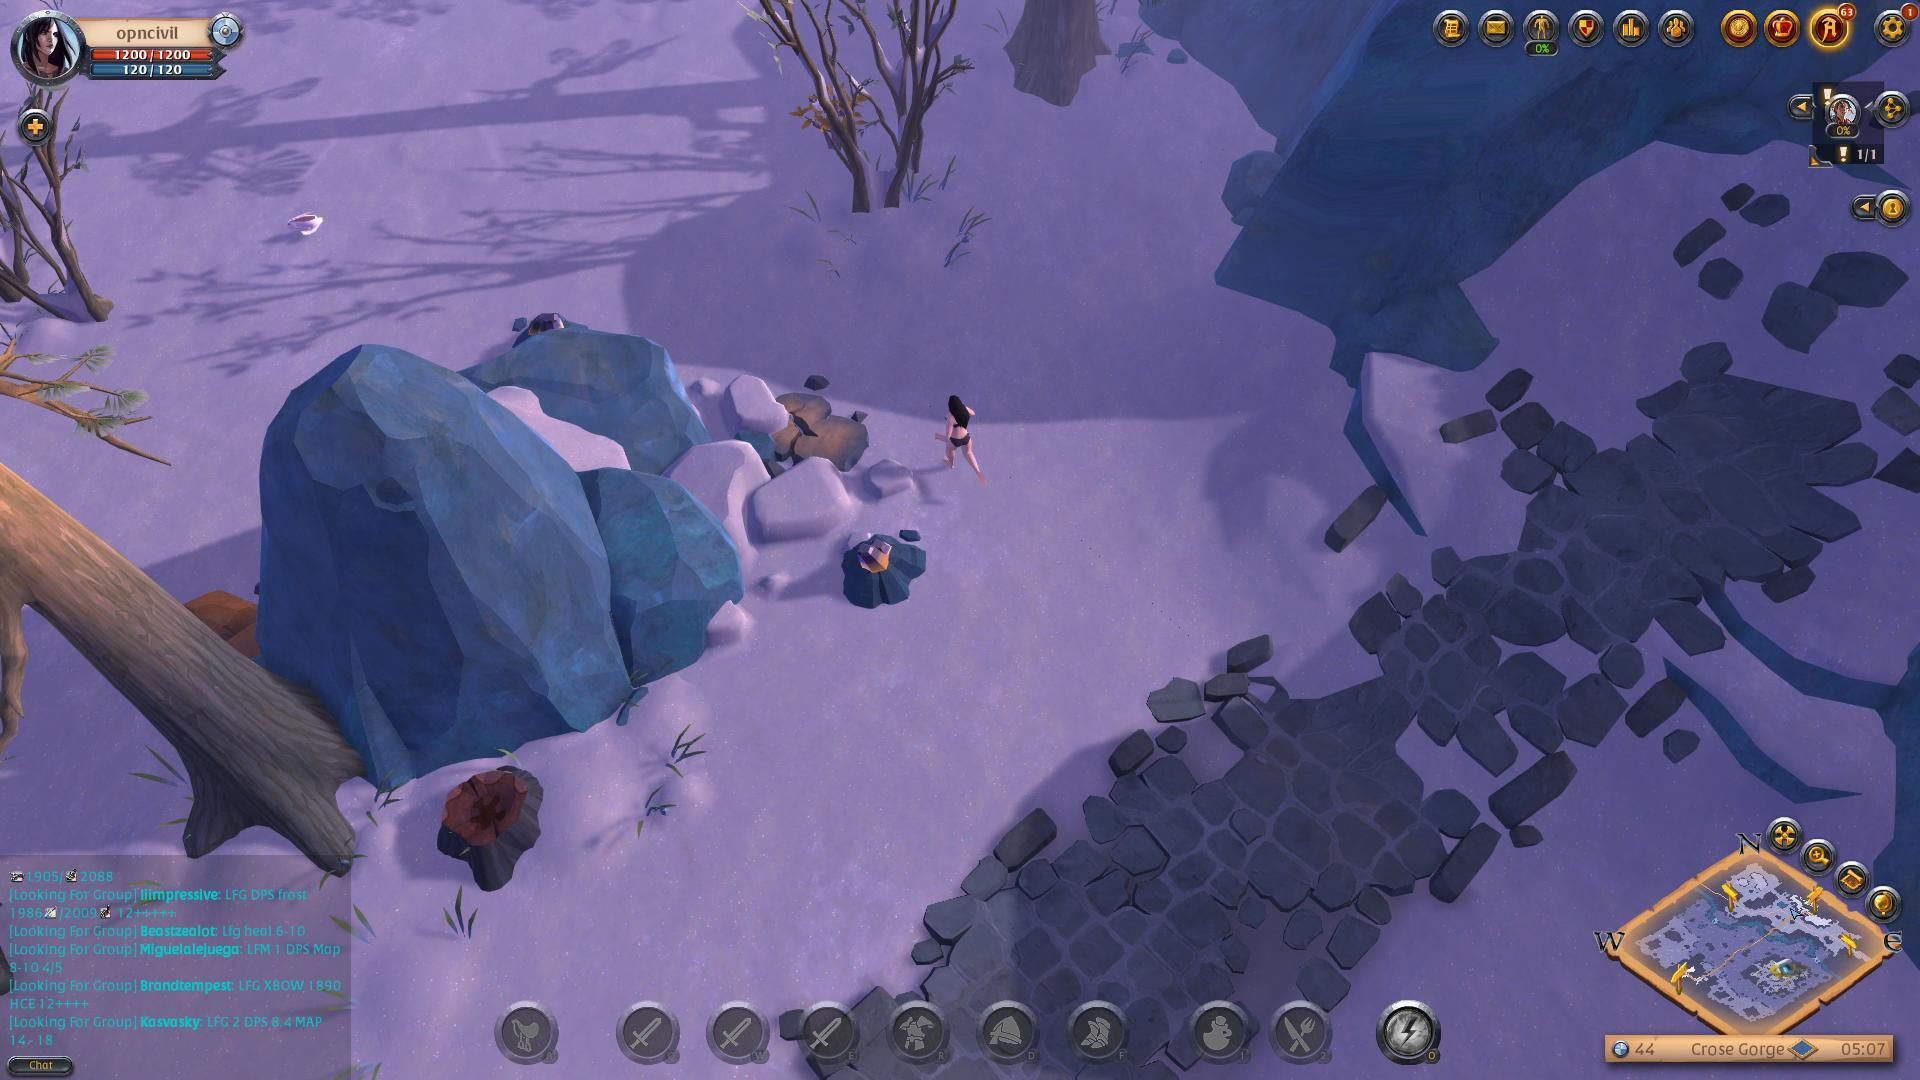copper_ore: (833, 517, 939, 620)
limestone: (175, 572, 281, 675)
